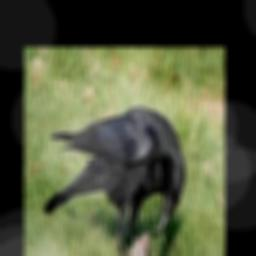Crow: (44, 106, 184, 255)
